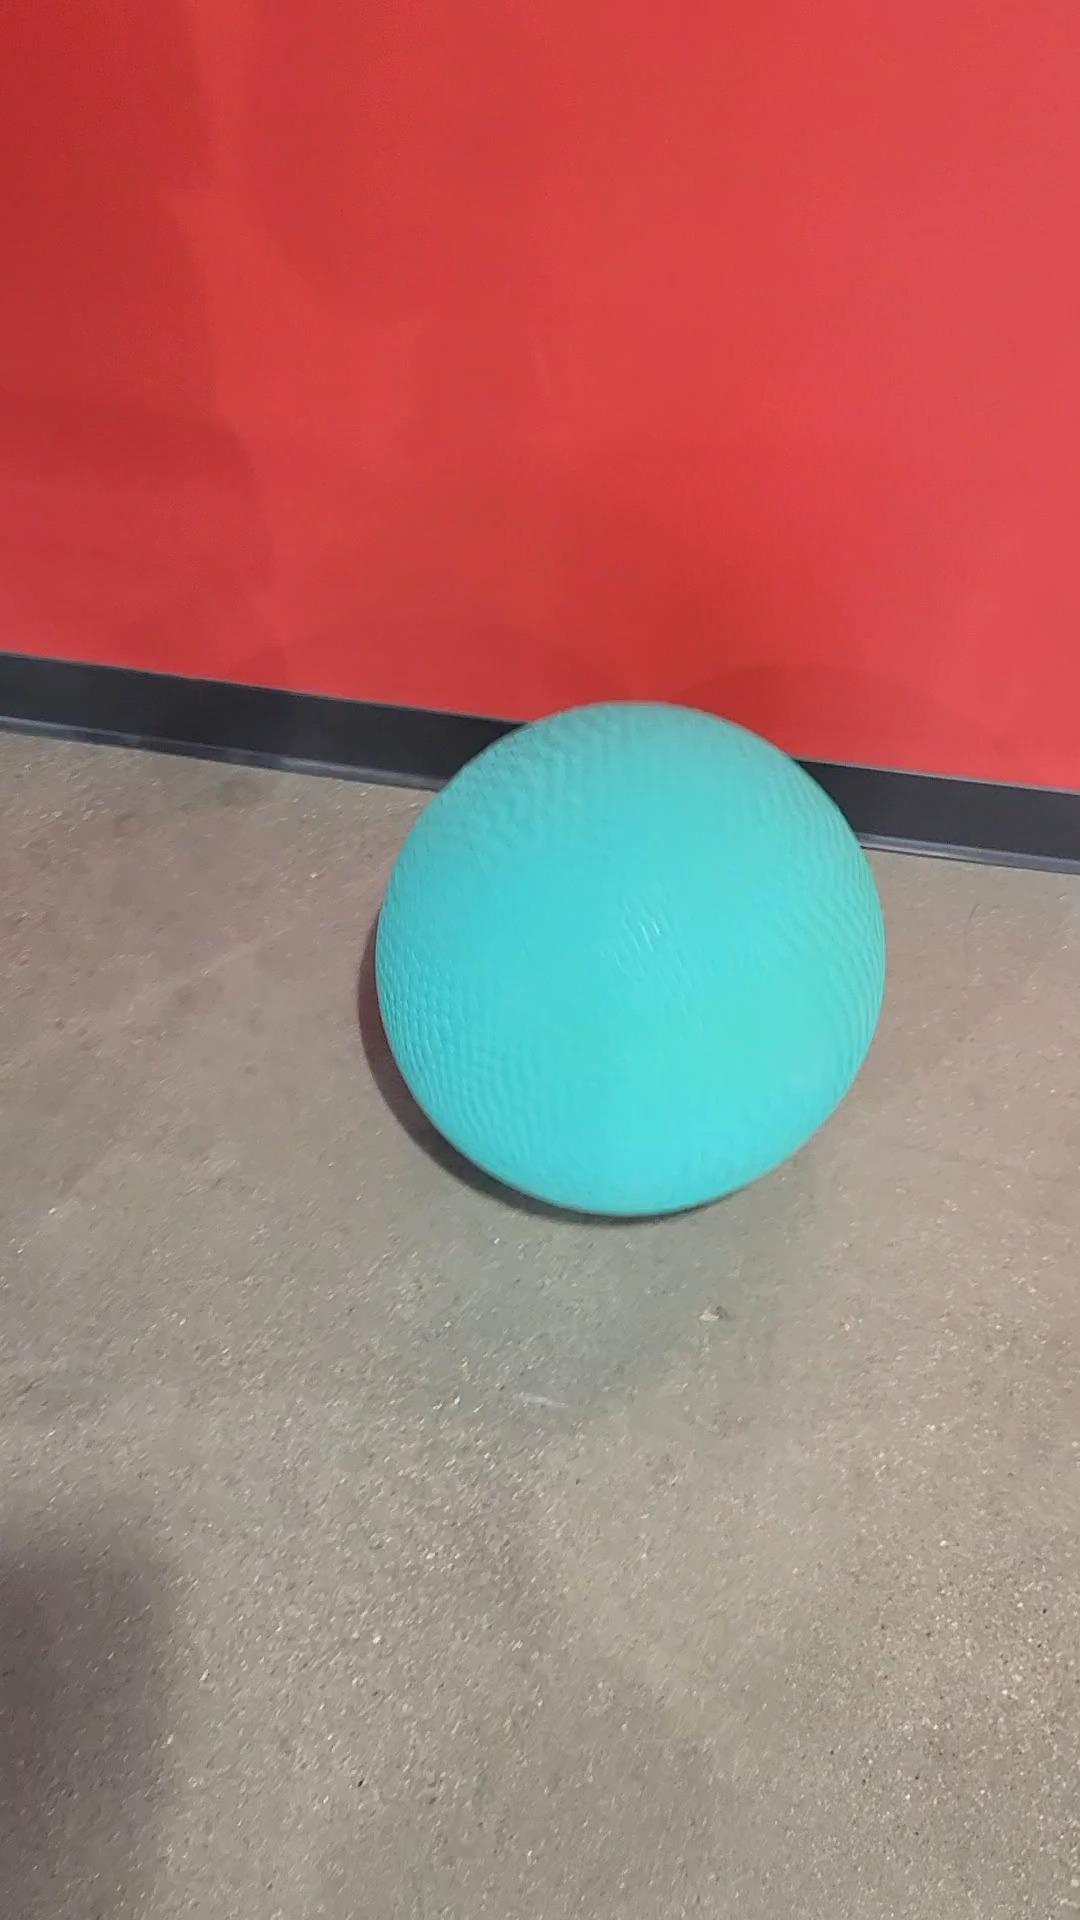algae: (371, 696, 865, 1213)
